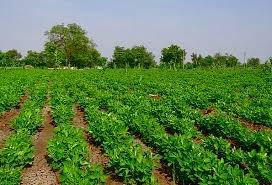field: (0, 65, 271, 184)
